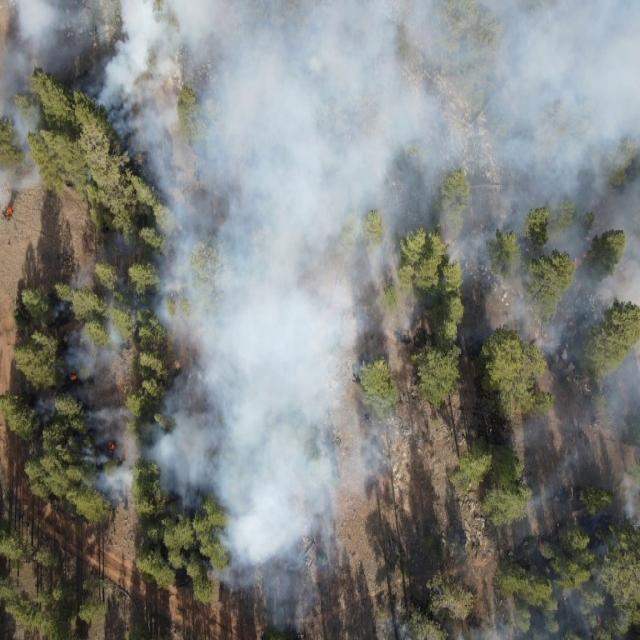fire: (570, 250, 588, 270), (4, 206, 15, 220), (593, 613, 603, 628), (108, 440, 116, 456), (71, 372, 77, 381)
smoke: (1, 0, 640, 225), (90, 226, 402, 634), (444, 226, 640, 450), (490, 451, 640, 640), (36, 262, 90, 382), (410, 610, 490, 640), (27, 390, 58, 425), (78, 438, 90, 487)
